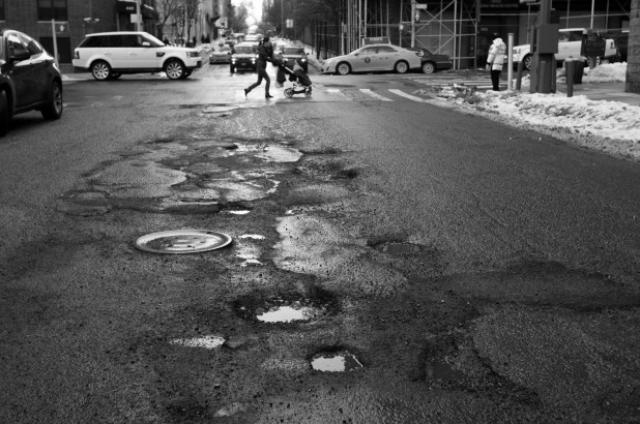Pothole: (173, 118, 365, 238), (234, 287, 346, 325), (302, 343, 378, 389), (156, 323, 240, 359), (366, 226, 426, 268)
